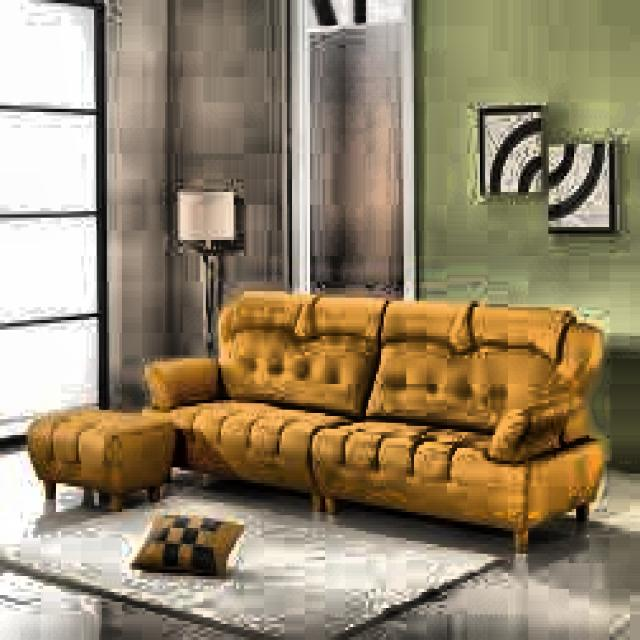sofa: (38, 291, 594, 531)
